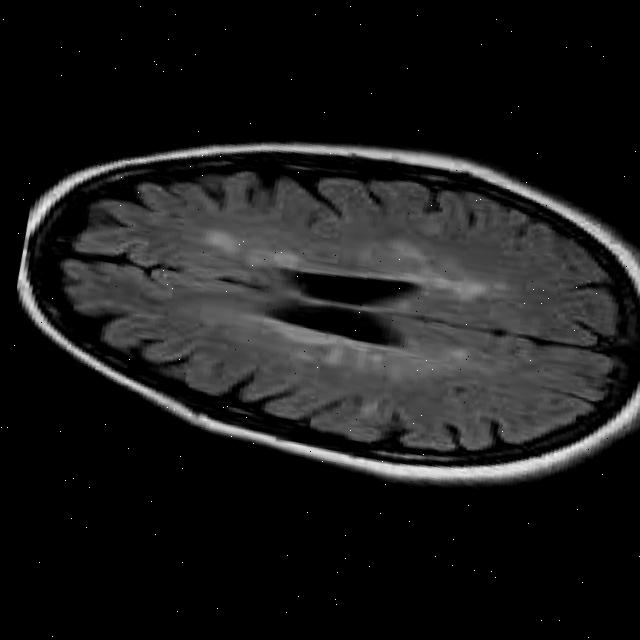NoTumor: (10, 80, 640, 527)
